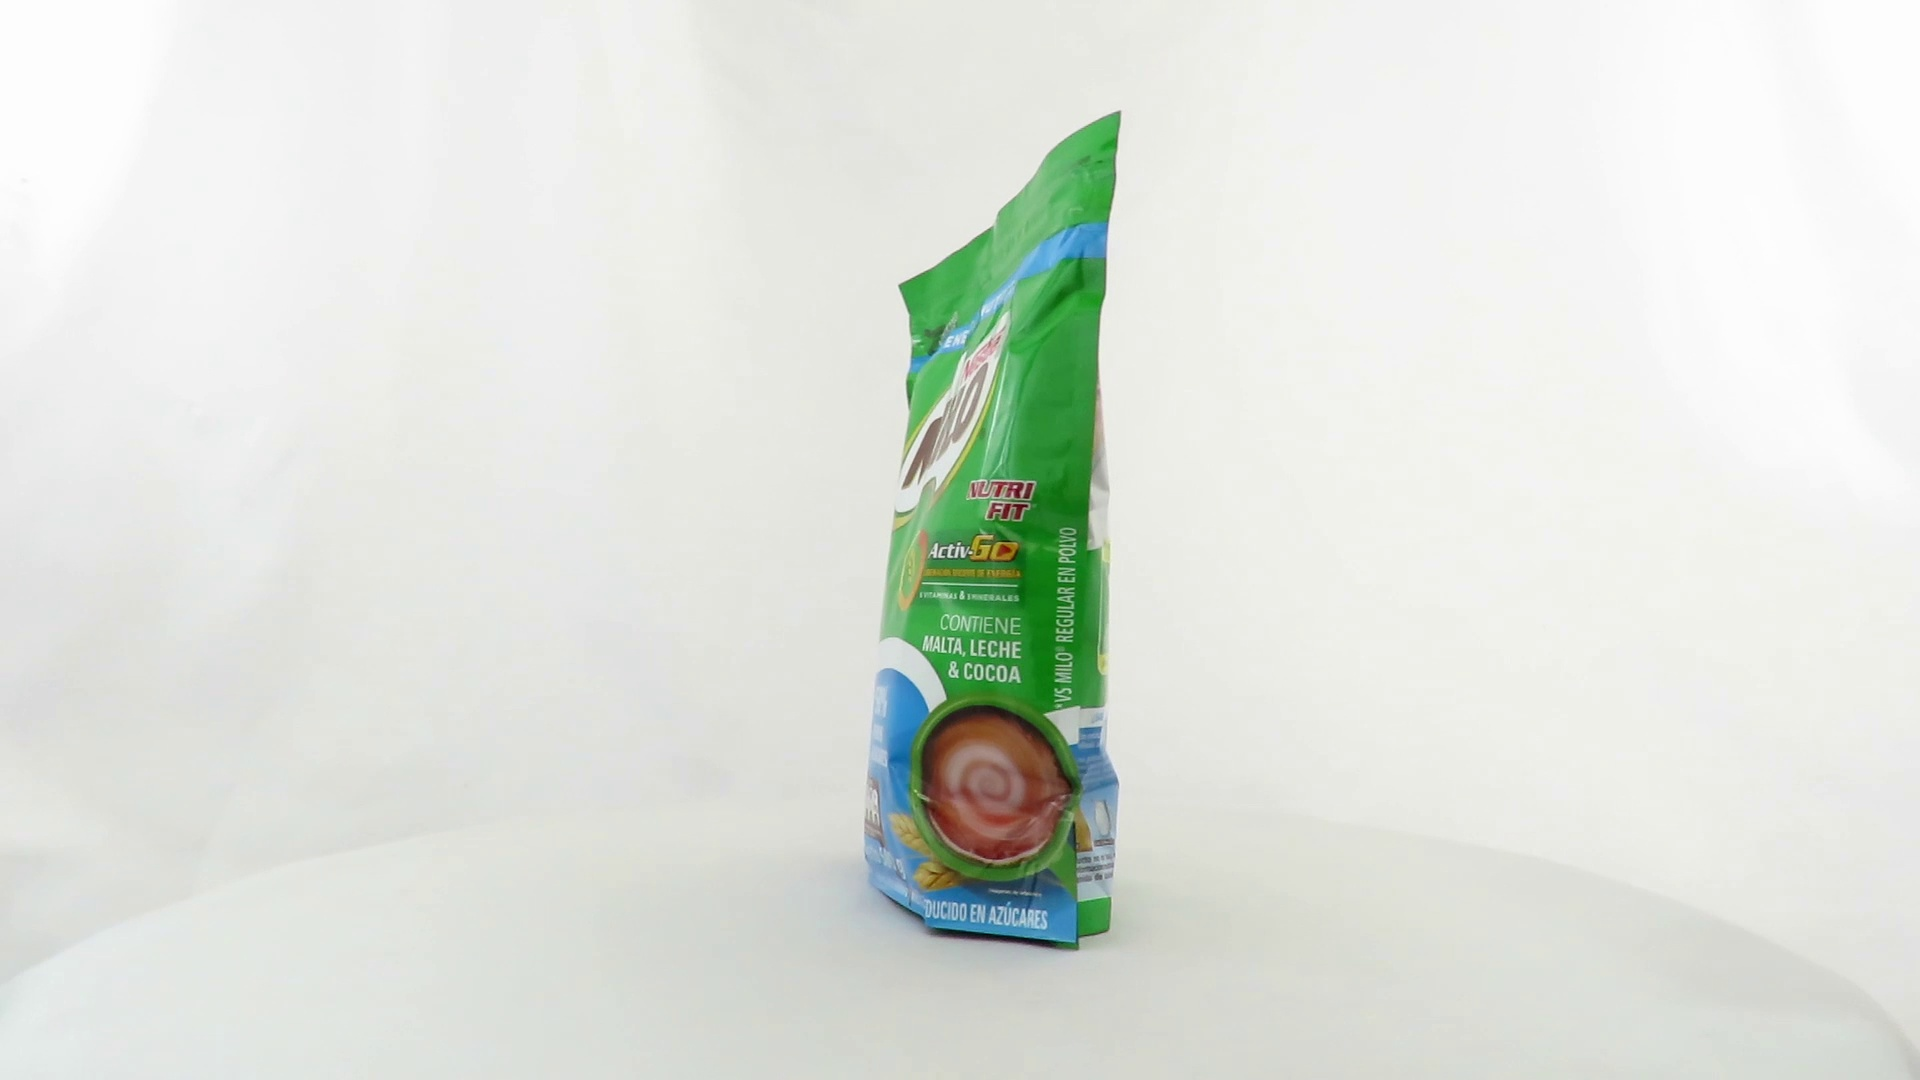COL0170205DYP50000: (858, 105, 1127, 957)
